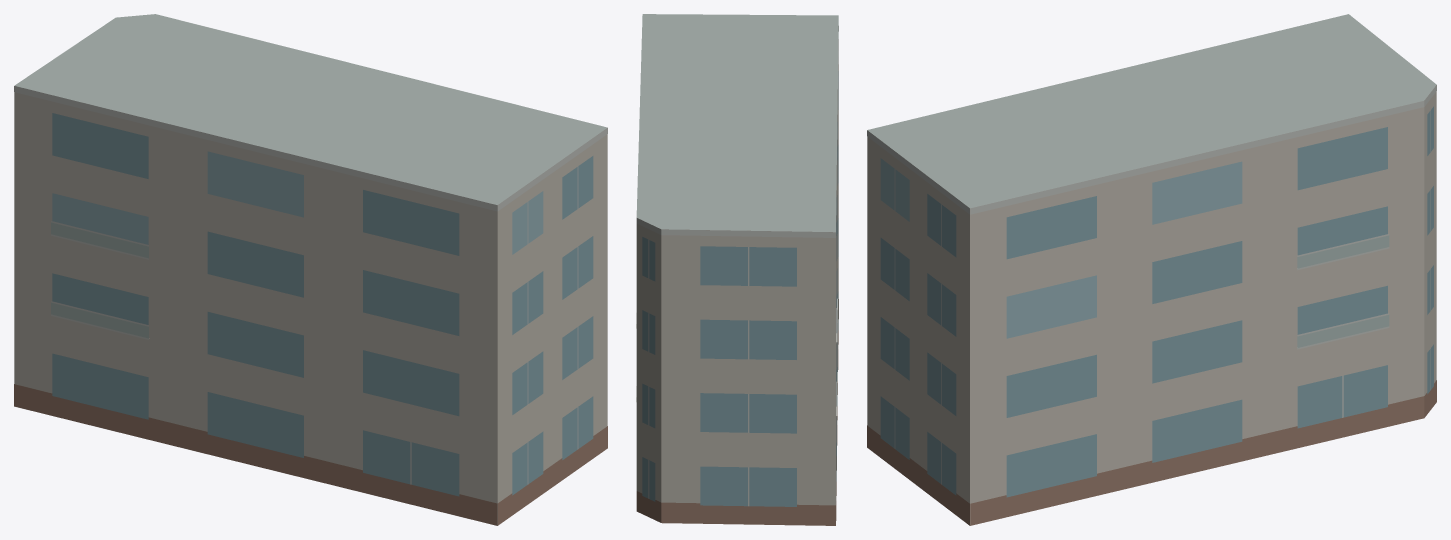
Rendered from survey-upis-32636208.glb.
3 views of the same model, side by side, from view 1: azimuth 30°, elevation 25°; view 2: azimuth 150°, elevation 25°; view 3: azimuth 270°, elevation 25° (orthographic). The views are drawn at different scales.
Visible parts, largest first — view 1: survey-upis-32636208.tmp; view 2: survey-upis-32636208.tmp; view 3: survey-upis-32636208.tmp.
Boxes of the visible parts, x1,y1,x2,y2 form: survey-upis-32636208.tmp: (14,14,607,525); survey-upis-32636208.tmp: (636,14,838,525); survey-upis-32636208.tmp: (867,14,1436,525).
Bounding box in the file's own units: 16.1 × 12.25 × 19.93.
